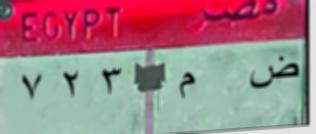2: (58, 66, 85, 102)
3: (97, 62, 127, 104)
7: (15, 67, 46, 107)
daad: (248, 52, 301, 97)
meem: (172, 67, 204, 109)
